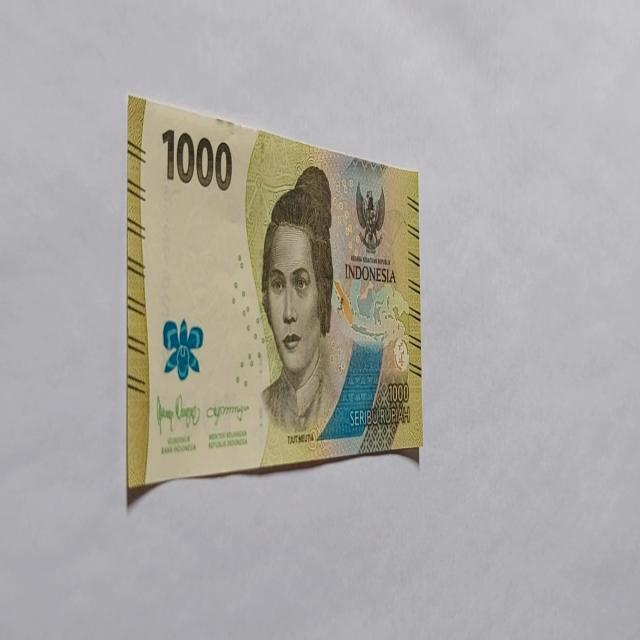seribu rupiah kertas: (126, 93, 422, 497)
